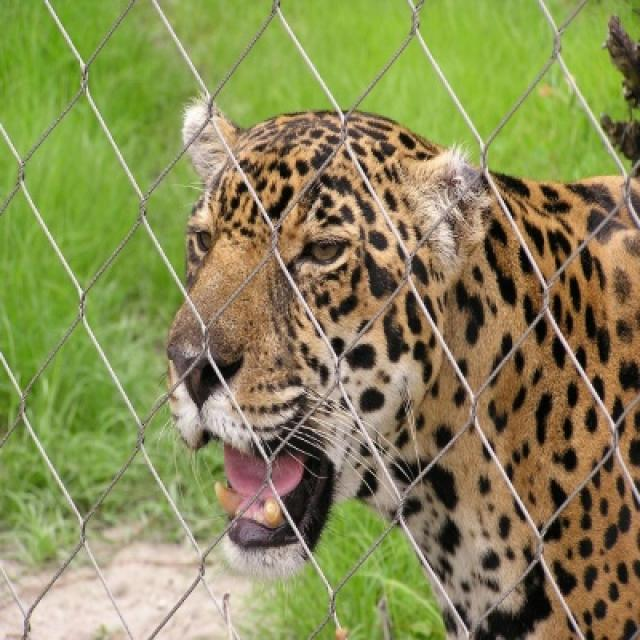Jaguar: (165, 96, 638, 638)
